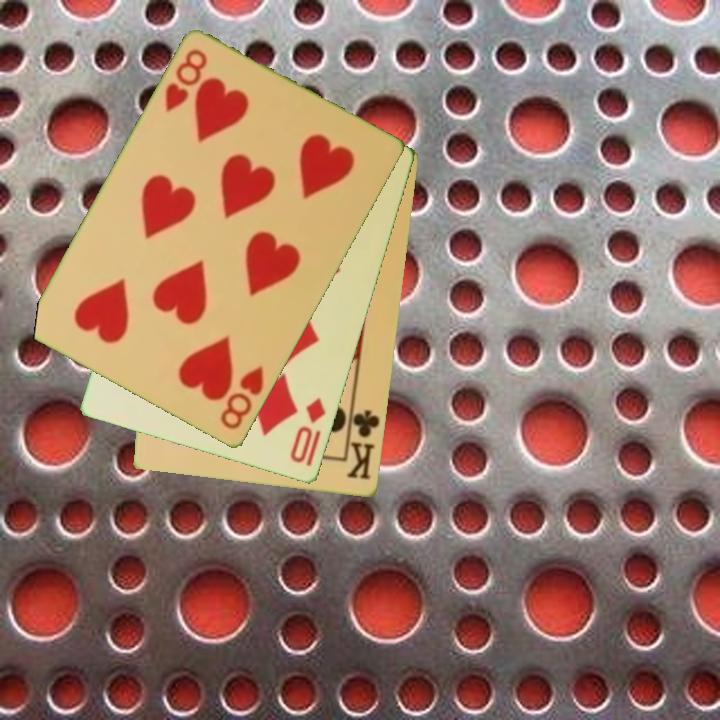10d: (287, 395, 329, 467)
8h: (217, 363, 267, 434), (161, 46, 211, 116)
Kc: (343, 401, 383, 483)
